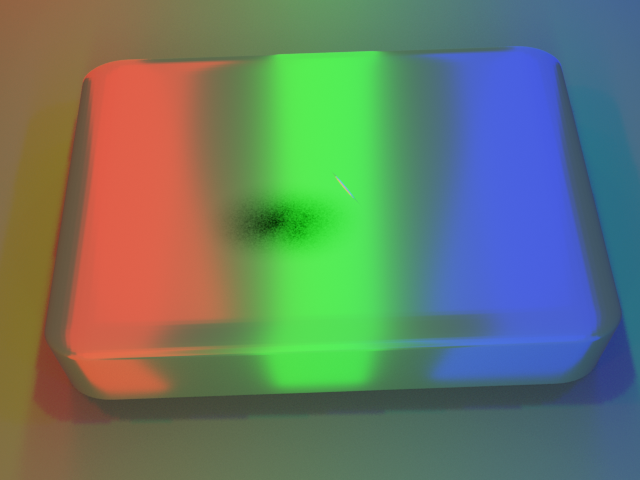scratch: (253, 129, 441, 234)
stain: (170, 164, 388, 291)
